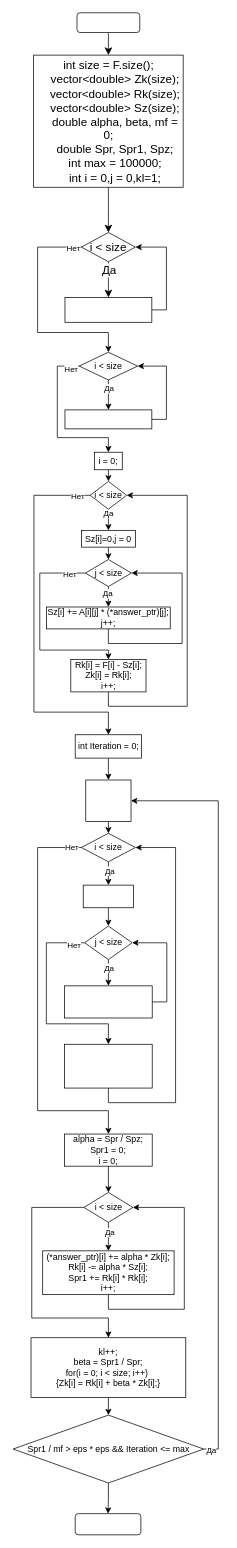
The diagram is 237 pixels wide and 1548 high, and some of its shapes have lost their labels. The centre of each missing label's shape, as x and y in pixels:
(*answer_ptr)[i] = 0.2; i++;: point 108,419
Iteration++; Spz = 0; Spr = 0; i = 0;: point 108,800
mf += F[i] * F[i]; i++;: point 108,309
Spz += Sz[i] * Zk[i]; Spr += Rk[i] * Rk[i]; i++;: point 108,1066
Sz[i] += A[i][j] * Zk[j]; j++;: point 108,1001
Sz[i] = 0; j = 0;: point 108,896
Конец: point 107,1524
Начало: point 108,22
